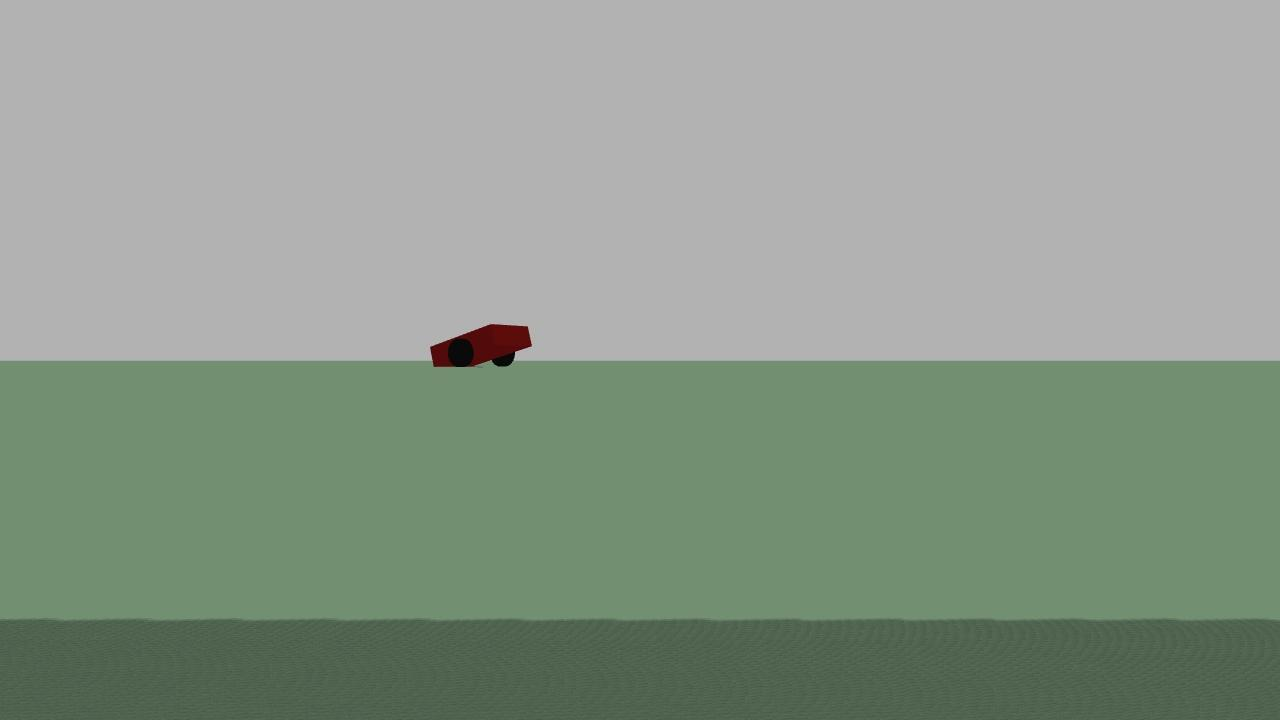ground_vehicle: (426, 325, 537, 373)
